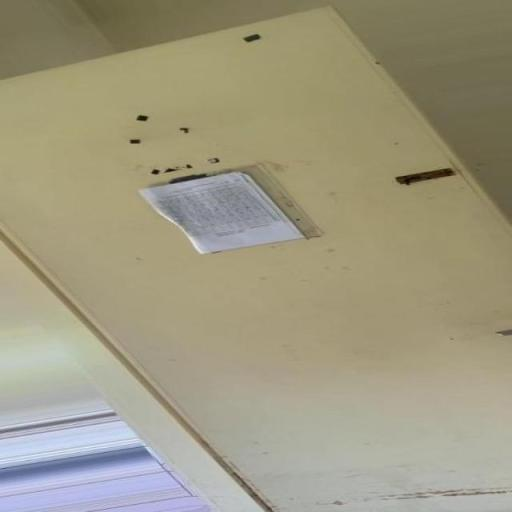door: (1, 5, 509, 510)
